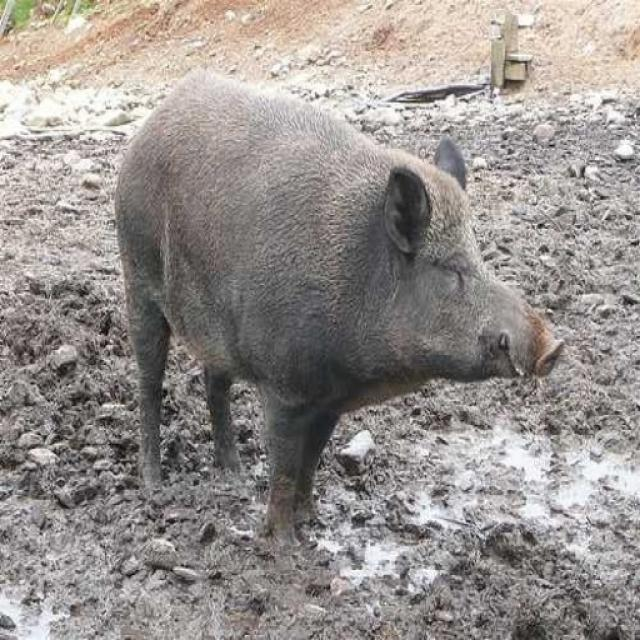pig: (67, 21, 600, 552)
